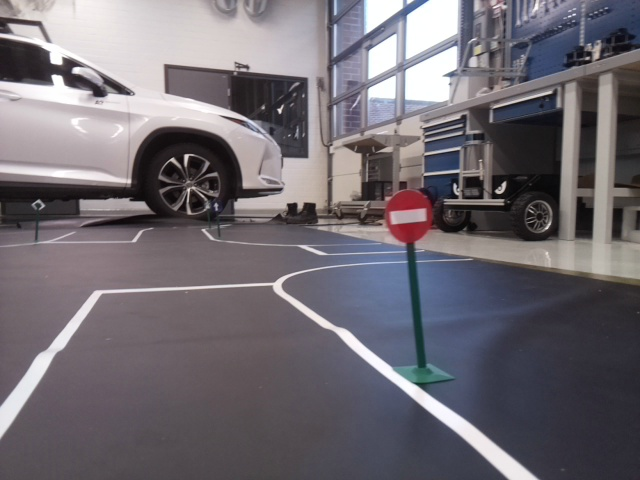NoEntry: (384, 188, 431, 242)
OneWay: (211, 200, 221, 211)
